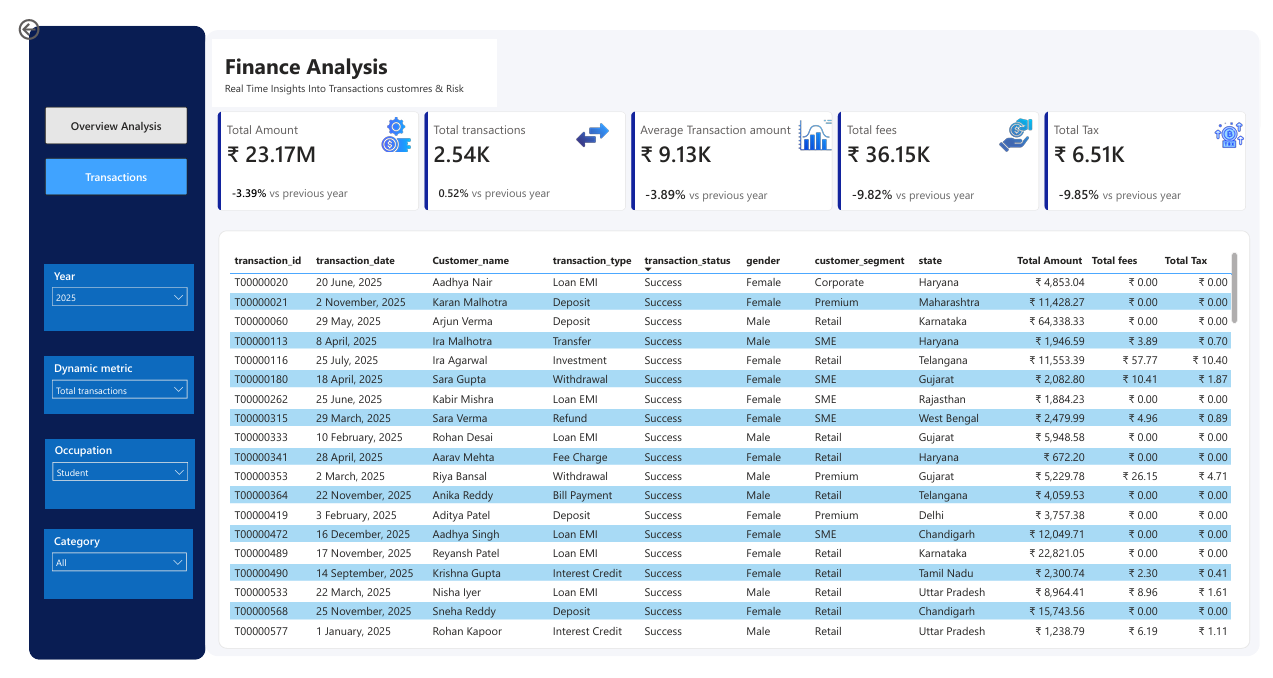

The dashboard page shown, as its layout file describes it:
{"tool":"powerbi","page":{"name":"Transactions","canvas":[1800,950],"ordinal":1},"visuals":[{"type":"shape","box":[19.6,14.7,255.1,917.3],"z":0},{"type":"shape","box":[274.7,21.3,1525.6,905.9],"z":1000},{"type":"cardVisual","fields":{"Data":["finance_transactions.Dashboard Title"]},"box":[286.2,34.3,412.1,98.1],"z":2000},{"type":"cardVisual","fields":{"Data":["finance_transactions.Total Amount","finance_transactions.Total transactions","finance_transactions.Average Transaction amount","finance_transactions.Total fees","finance_transactions.Total Tax"]},"box":[286.7,133.3,1500,155],"z":3000},{"type":"image","box":[520,148,62,50],"z":4000},{"type":"image","box":[801.7,148.3,66.7,50],"z":5000},{"type":"image","box":[1126.7,148.3,60,50],"z":6000},{"type":"image","box":[1413.3,148.3,66.7,50],"z":7000},{"type":"image","box":[1725,148.3,61.7,50],"z":8000},{"type":"shape","box":[294.3,310.7,1491.3,605],"z":9000},{"type":"tableEx","fields":{"Values":["finance_transactions.transaction_id","finance_transactions.transaction_date","customers. Customer_name","finance_transactions.transaction_type","finance_transactions.transaction_status","customers.gender","customers.customer_segment","customers.state","finance_transactions.Total Amount","finance_transactions.Total fees","finance_transactions.Total Tax"]},"box":[305.8,336.8,1466.8,565.8],"z":10000},{"type":"actionButton","box":[0,0,100,40],"z":11000},{"type":"slicer","fields":{"Values":["Calendar Table.Year"]},"box":[42.5,359.7,216.7,96.7],"z":12000},{"type":"slicer","fields":{"Values":["Dynamic metric.Dynamic metric"]},"box":[42.5,493.8,216.7,83.3],"z":13000},{"type":"slicer","fields":{"Values":["customers.occupation"]},"box":[44.1,613.2,215.8,99.7],"z":14000},{"type":"slicer","fields":{"Values":["finance_transactions.merchant_category"]},"box":[42.5,744,215.8,99.7],"z":15000},{"type":"pageNavigator","box":[42.5,132.4,206,127.5],"z":16000}]}

Visuals, with their boxes on the page's 1800x950 design canvas (x1, y1, x2, y2). These are canvas units, not pixel positions in the 1273x678 screenshot, which may show the page scaled, cropped or inside an application window:
shape: 20,15,275,932
shape: 275,21,1800,927
cardVisual - finance_transactions.Dashboard Title: 286,34,698,132
cardVisual - finance_transactions.Total Amount x finance_transactions.Total transactions: 287,133,1787,288
image: 520,148,582,198
image: 802,148,868,198
image: 1127,148,1187,198
image: 1413,148,1480,198
image: 1725,148,1787,198
shape: 294,311,1786,916
tableEx - finance_transactions.transaction_id x finance_transactions.transaction_date: 306,337,1773,903
actionButton: 0,0,100,40
slicer - Calendar Table.Year: 42,360,259,456
slicer - Dynamic metric.Dynamic metric: 42,494,259,577
slicer - customers.occupation: 44,613,260,713
slicer - finance_transactions.merchant_category: 42,744,258,844
pageNavigator: 42,132,248,260
